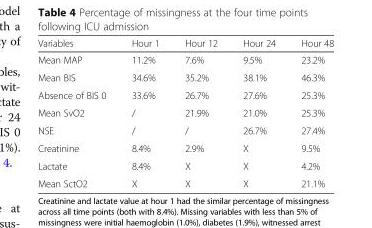table: (37, 37, 333, 188)
table column: (37, 37, 118, 188), (171, 37, 229, 188), (229, 37, 287, 188), (118, 37, 171, 188), (287, 37, 333, 188)
table column header: (37, 37, 333, 51)
table row: (37, 85, 333, 103), (37, 103, 333, 121), (37, 138, 333, 156), (37, 156, 333, 174), (37, 51, 333, 68), (37, 68, 333, 85), (37, 121, 333, 138), (37, 37, 333, 51), (37, 174, 333, 188)
